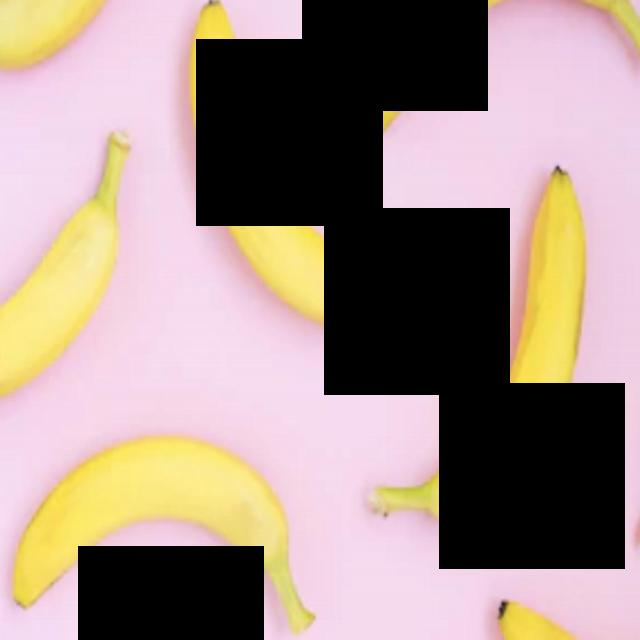banana: (154, 0, 460, 361), (358, 139, 602, 540)
